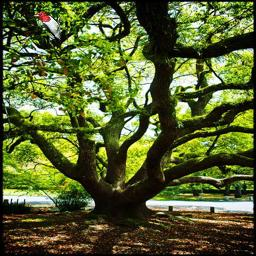Woodpecker: (32, 12, 62, 44)
